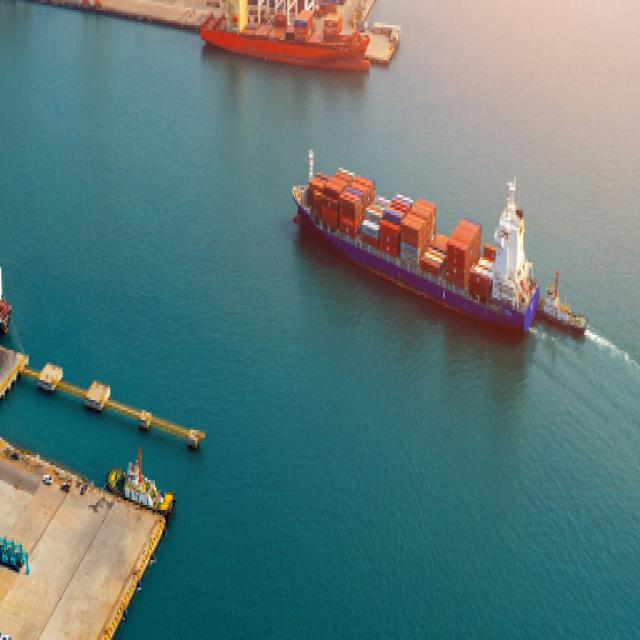cargoship: (290, 120, 538, 343), (540, 272, 591, 342)
